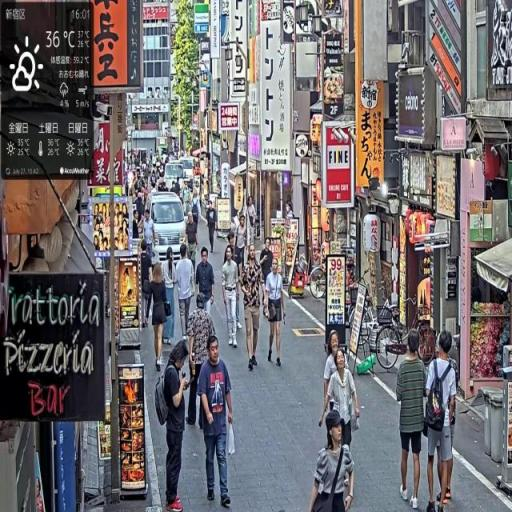person: (198, 333, 236, 508), (423, 330, 459, 512), (159, 339, 194, 511), (397, 331, 429, 510), (310, 408, 356, 512), (187, 302, 217, 430), (240, 245, 264, 373), (146, 263, 172, 372), (265, 256, 287, 368), (222, 243, 242, 348), (176, 243, 197, 341), (196, 248, 217, 317), (141, 241, 156, 328), (206, 199, 219, 254)
